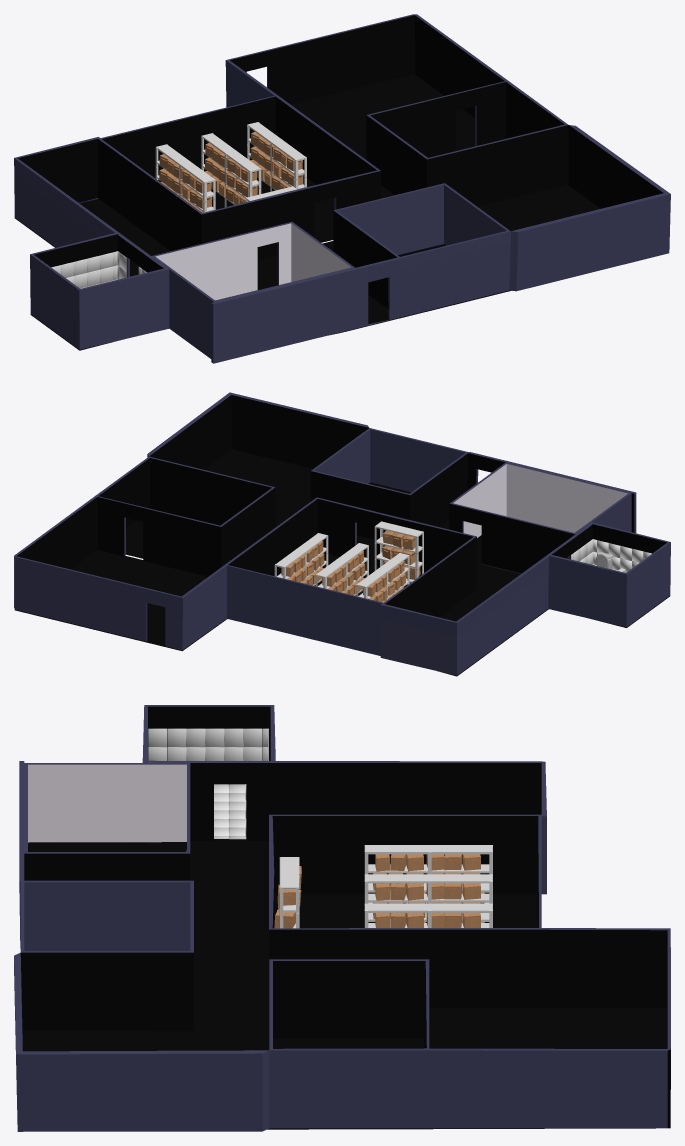
File: DENAH RUMAH 1.fbx
The picture shows the model from 3 angles, top to bottom: view 1: azimuth 30°, elevation 25°; view 2: azimuth 150°, elevation 25°; view 3: azimuth 270°, elevation 25°; orthographic projection. The views are drawn at different scales.
Visible parts, largest first — view 1: RUANGAN, Cube.001, RUANG KELUARGA, RUANG TAMU, LORONG, GUDANG, DAPUR, KAMAR ANDI, KAMAR IBU, KAMAR MANDI, Cube.016, RAK (+2 smaller); view 2: RUANGAN, LORONG, Cube.001, RUANG TAMU, RUANG KELUARGA, KAMAR ANDI, GUDANG, KAMAR IBU, DAPUR, KAMAR MANDI, Cube.014, RAK2 (+3 smaller); view 3: RUANGAN, Cube.001, RUANG KELUARGA, LORONG, GUDANG, DAPUR, RUANG TAMU, KAMAR ANDI, KAMAR IBU, Cube.013, KAMAR MANDI, RAK3 (+4 smaller).
Part boxes in pixels (box(x1,y1,x2,y2)): RUANGAN: box(14, 14, 670, 363); Cube.001: box(14, 74, 601, 350); RUANG KELUARGA: box(230, 15, 504, 117); RUANG TAMU: box(427, 125, 663, 208); LORONG: box(201, 115, 426, 308); GUDANG: box(102, 96, 376, 242); DAPUR: box(18, 139, 201, 251); KAMAR ANDI: box(155, 223, 351, 300); KAMAR IBU: box(370, 82, 564, 157); KAMAR MANDI: box(34, 234, 163, 277); Cube.016: box(51, 251, 117, 288); RAK: box(247, 122, 306, 190); RUANGAN: box(14, 392, 670, 675); LORONG: box(221, 453, 634, 573); Cube.001: box(15, 448, 669, 676); RUANG TAMU: box(149, 395, 368, 469); RUANG KELUARGA: box(16, 497, 221, 576); KAMAR ANDI: box(453, 464, 627, 537); GUDANG: box(228, 499, 473, 576); KAMAR IBU: box(98, 458, 271, 527); DAPUR: box(385, 537, 476, 617); KAMAR MANDI: box(552, 524, 667, 559); Cube.014: box(593, 539, 651, 572); RAK2: box(316, 543, 368, 595); RUANGAN: box(14, 705, 670, 1131); Cube.001: box(22, 839, 670, 1129); RUANG KELUARGA: box(429, 929, 670, 1127); LORONG: box(24, 763, 428, 1007); GUDANG: box(272, 816, 538, 928); DAPUR: box(275, 763, 541, 814); RUANG TAMU: box(20, 952, 193, 1030); KAMAR ANDI: box(28, 764, 186, 851); KAMAR IBU: box(273, 961, 426, 1048); Cube.013: box(148, 728, 268, 762); KAMAR MANDI: box(148, 706, 270, 784); RAK3: box(365, 845, 492, 903).
Size of the model in its own units: 3225 by 344 by 2569.
